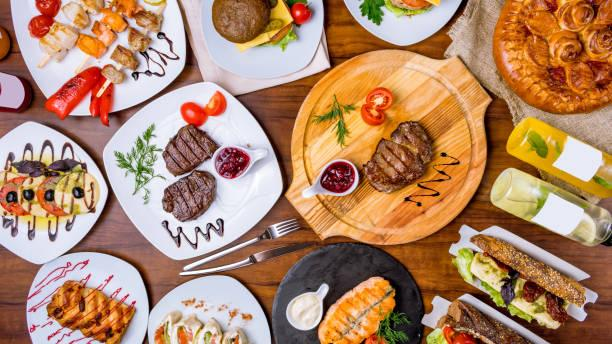Braised Crucian Carp: (284, 52, 497, 246), (103, 81, 278, 260), (6, 1, 180, 115), (1, 120, 109, 262), (271, 248, 427, 344), (494, 0, 612, 117), (194, 0, 341, 84), (27, 251, 149, 343)
